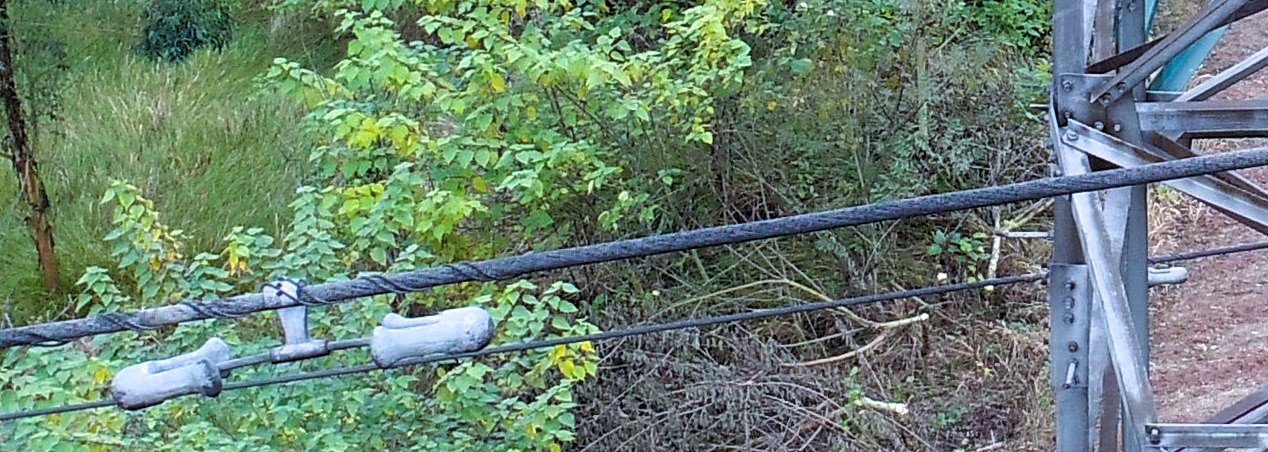Shockproof hammer: (98, 257, 503, 420)
